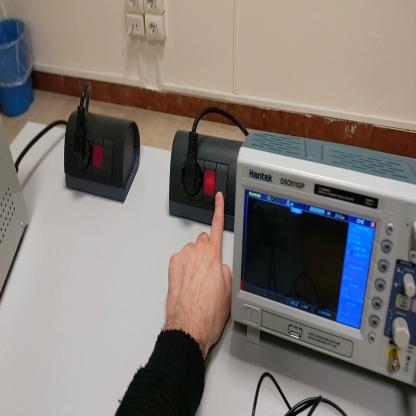hand: (166, 196, 234, 348)
oscilloscope: (233, 128, 416, 388)
power supply: (1, 112, 30, 299)
socket: (169, 133, 242, 234), (66, 112, 141, 204)
